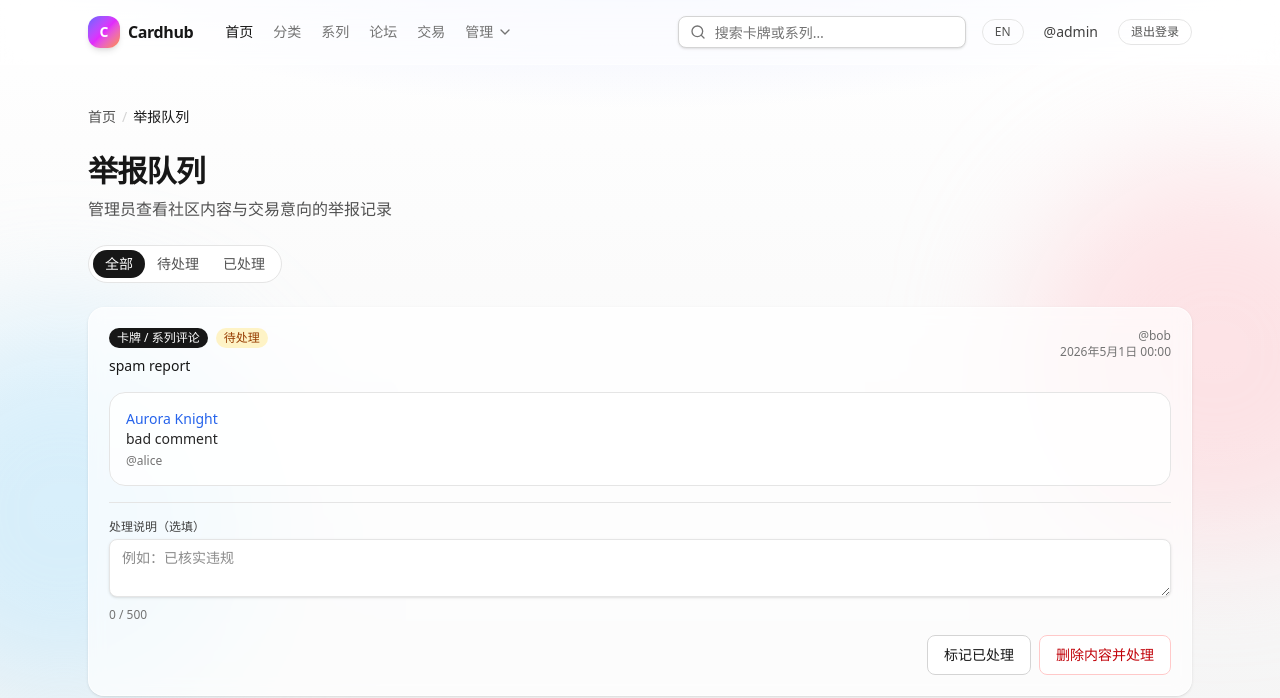
ReportsListPage resolution controls › submits a trimmed optional note when marking resolved
Type "  已核实违规  " into the text box labelled "处理说明（选填）" at (640, 568), box [109,539,1171,597]
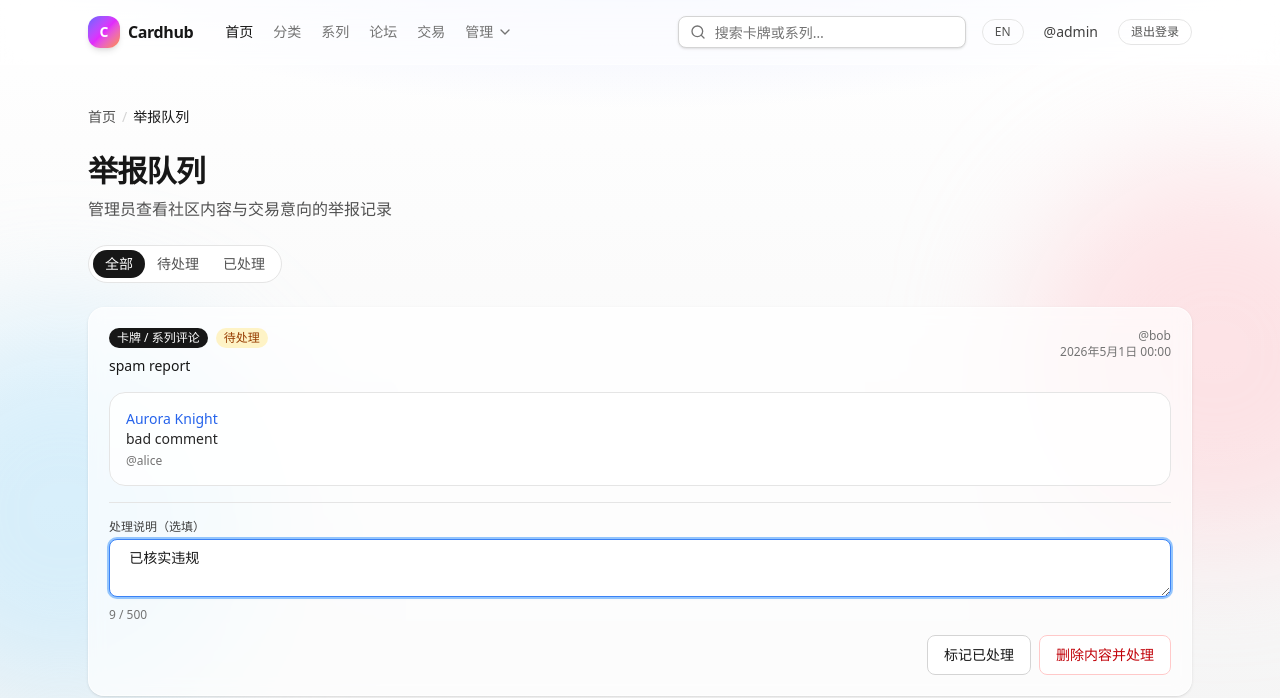
Click the button "标记已处理" at (979, 655), box [927,635,1031,675]
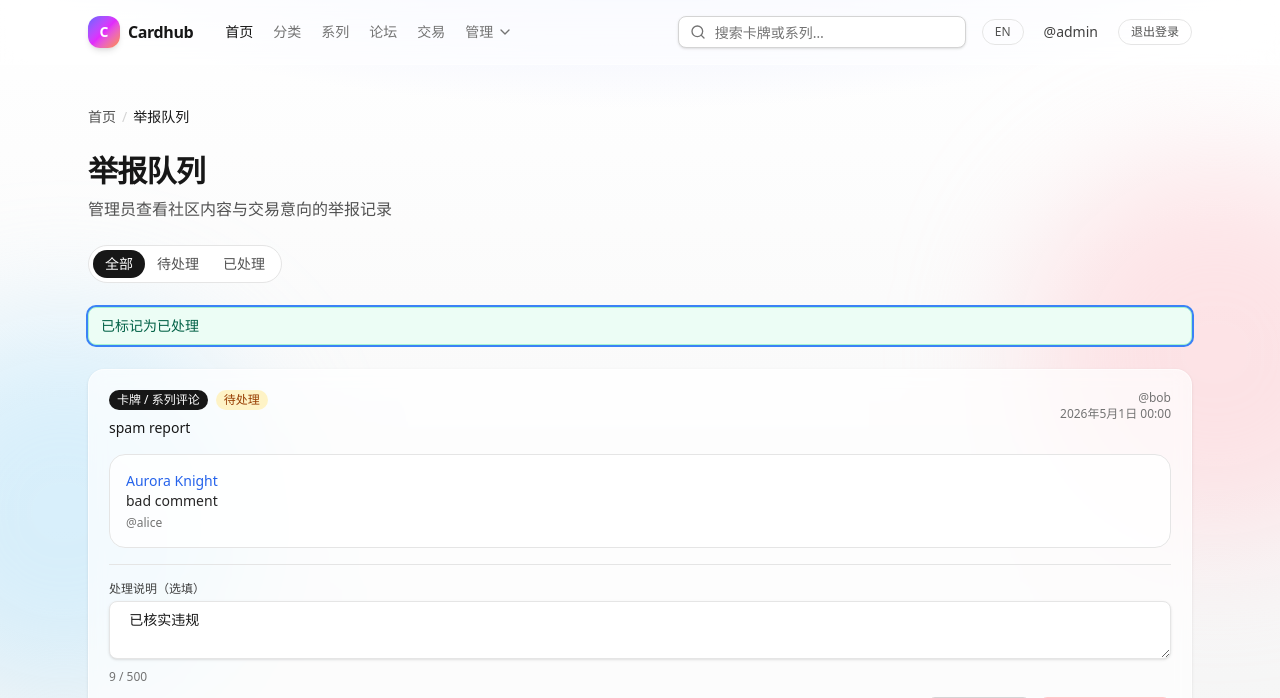
Expected: the message reads "已标记为已处理", [101,316,199,335]
